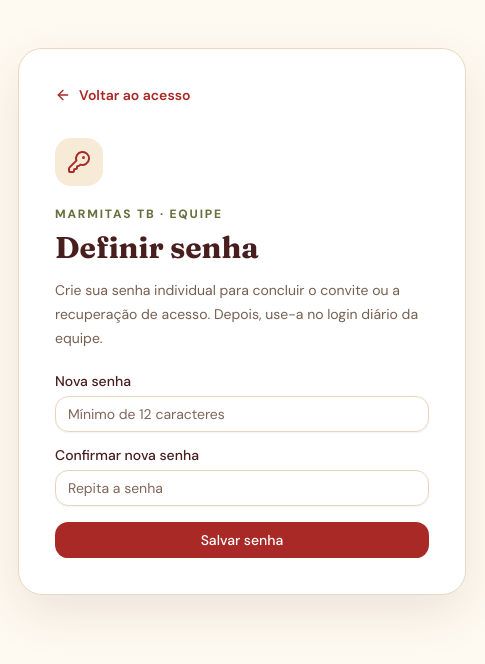
Test: SetPassword › não envia a senha quando as confirmações divergem
The width and height of the screenshot is (485, 664).
Type "senha-nova-segura-123" into the password field labelled "Nova senha" at coordinates (242, 414), box [55,396,429,432]
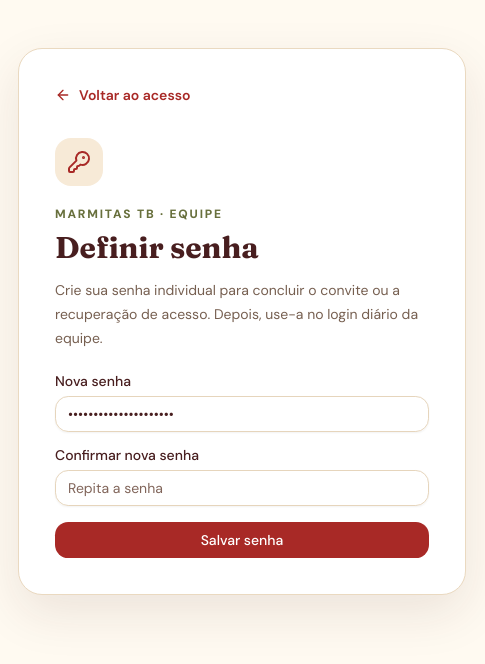
Type "outra-senha-segura" into the password field labelled "Confirmar nova senha" at coordinates (242, 488), box [55,470,429,506]
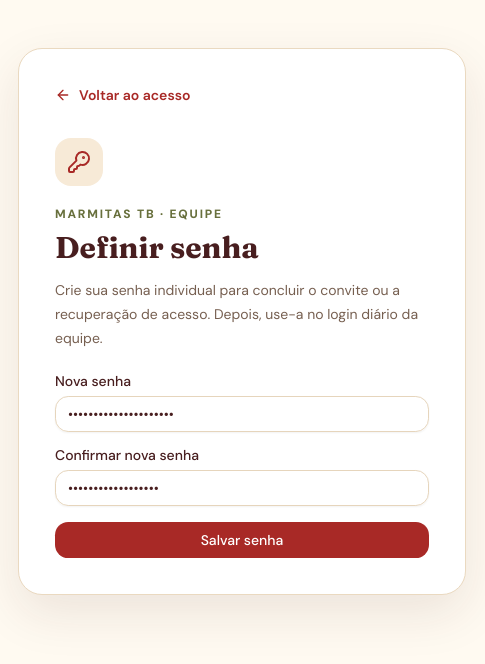
Click the button "Salvar senha" at coordinates (242, 540), box [55,522,429,558]
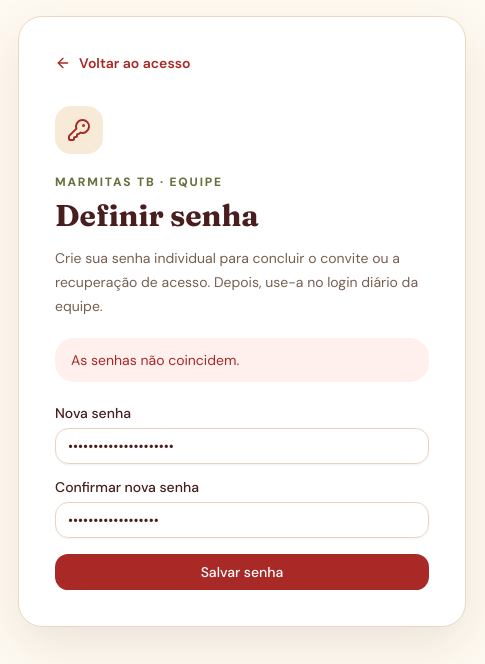
Check: the message shows "não coincidem", box [71,350,239,368]
